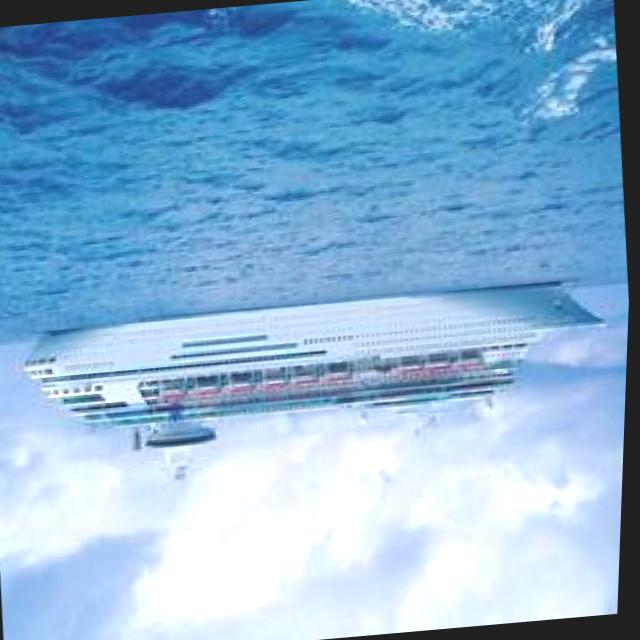ship2: (25, 280, 608, 480)
